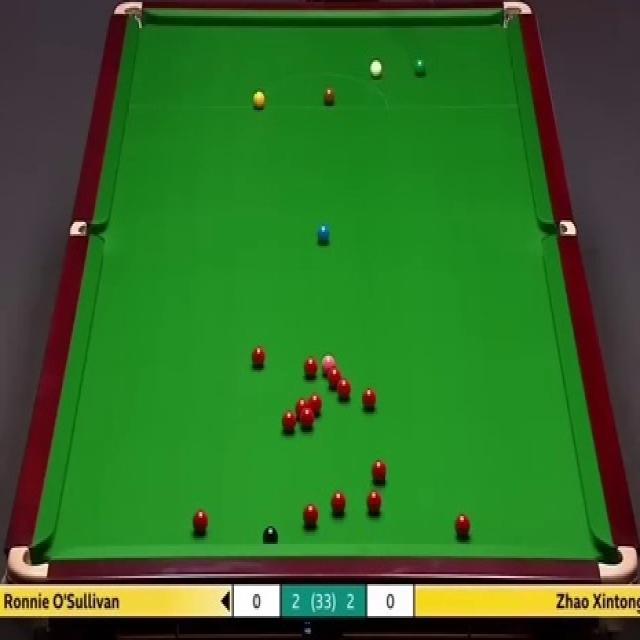black-ball: (262, 524, 279, 547)
blue-ball: (318, 225, 330, 244)
brown-ball: (322, 87, 335, 106)
green-ball: (413, 57, 428, 78)
pink-ball: (320, 352, 336, 374)
red-ball: (454, 512, 472, 540), (365, 488, 383, 516), (370, 458, 387, 485), (301, 504, 320, 528), (250, 344, 266, 370), (331, 488, 347, 514), (192, 508, 208, 533), (336, 379, 352, 404), (303, 355, 318, 379), (362, 387, 377, 411), (309, 392, 324, 416), (281, 410, 297, 432), (300, 405, 314, 429), (327, 368, 342, 386), (296, 397, 309, 415)
white-ball: (368, 57, 382, 79)
yellow-ball: (252, 88, 265, 110)
